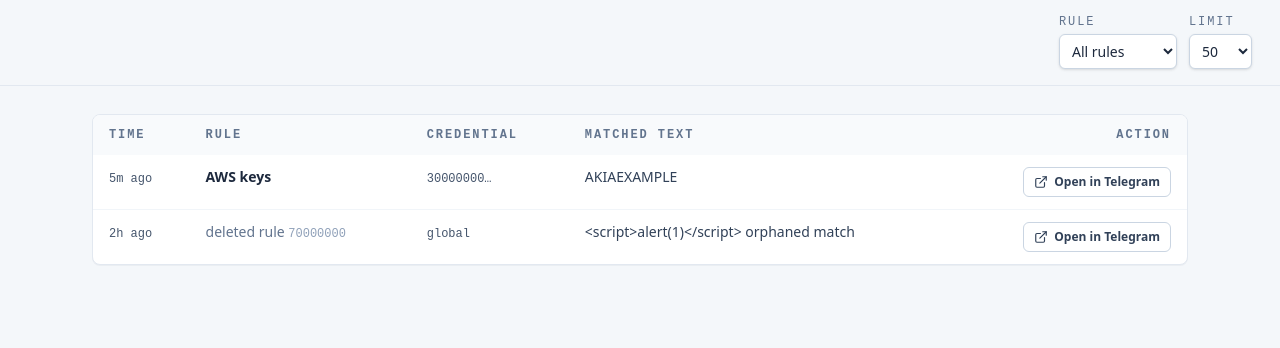
WatchlistHitsView › surfaces the tunnel-down message on a 502 link lookup
The image size is (1280, 348).
Expected: the cell "AWS keys" is shown, [190,155,411,210]
What coordinates should you click on to do the following:
click the button "Open in Telegram" in the row of "5m ago"
I would click on:
 (1097, 182)
Its box is [1023,167,1171,197].
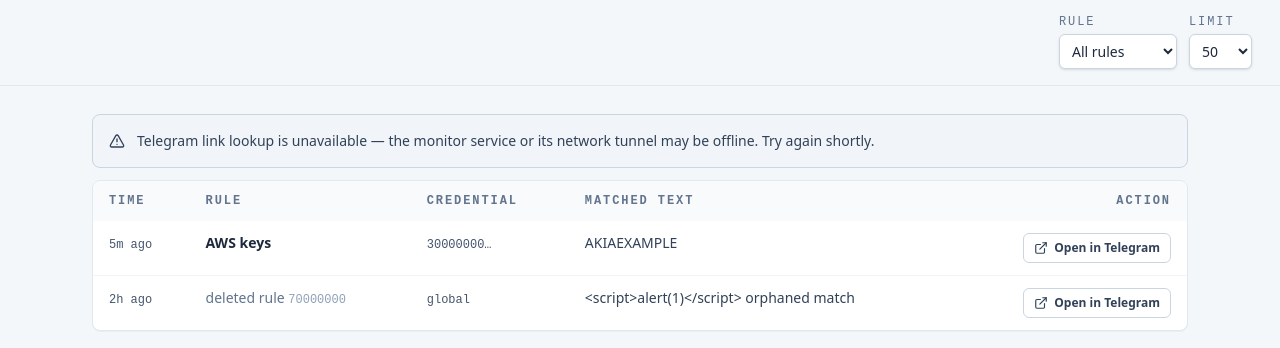
Now the message shows "network tunnel may be offline", box [137,131,874,150]
